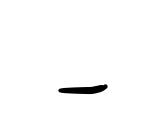minus: (58, 84, 108, 94)
